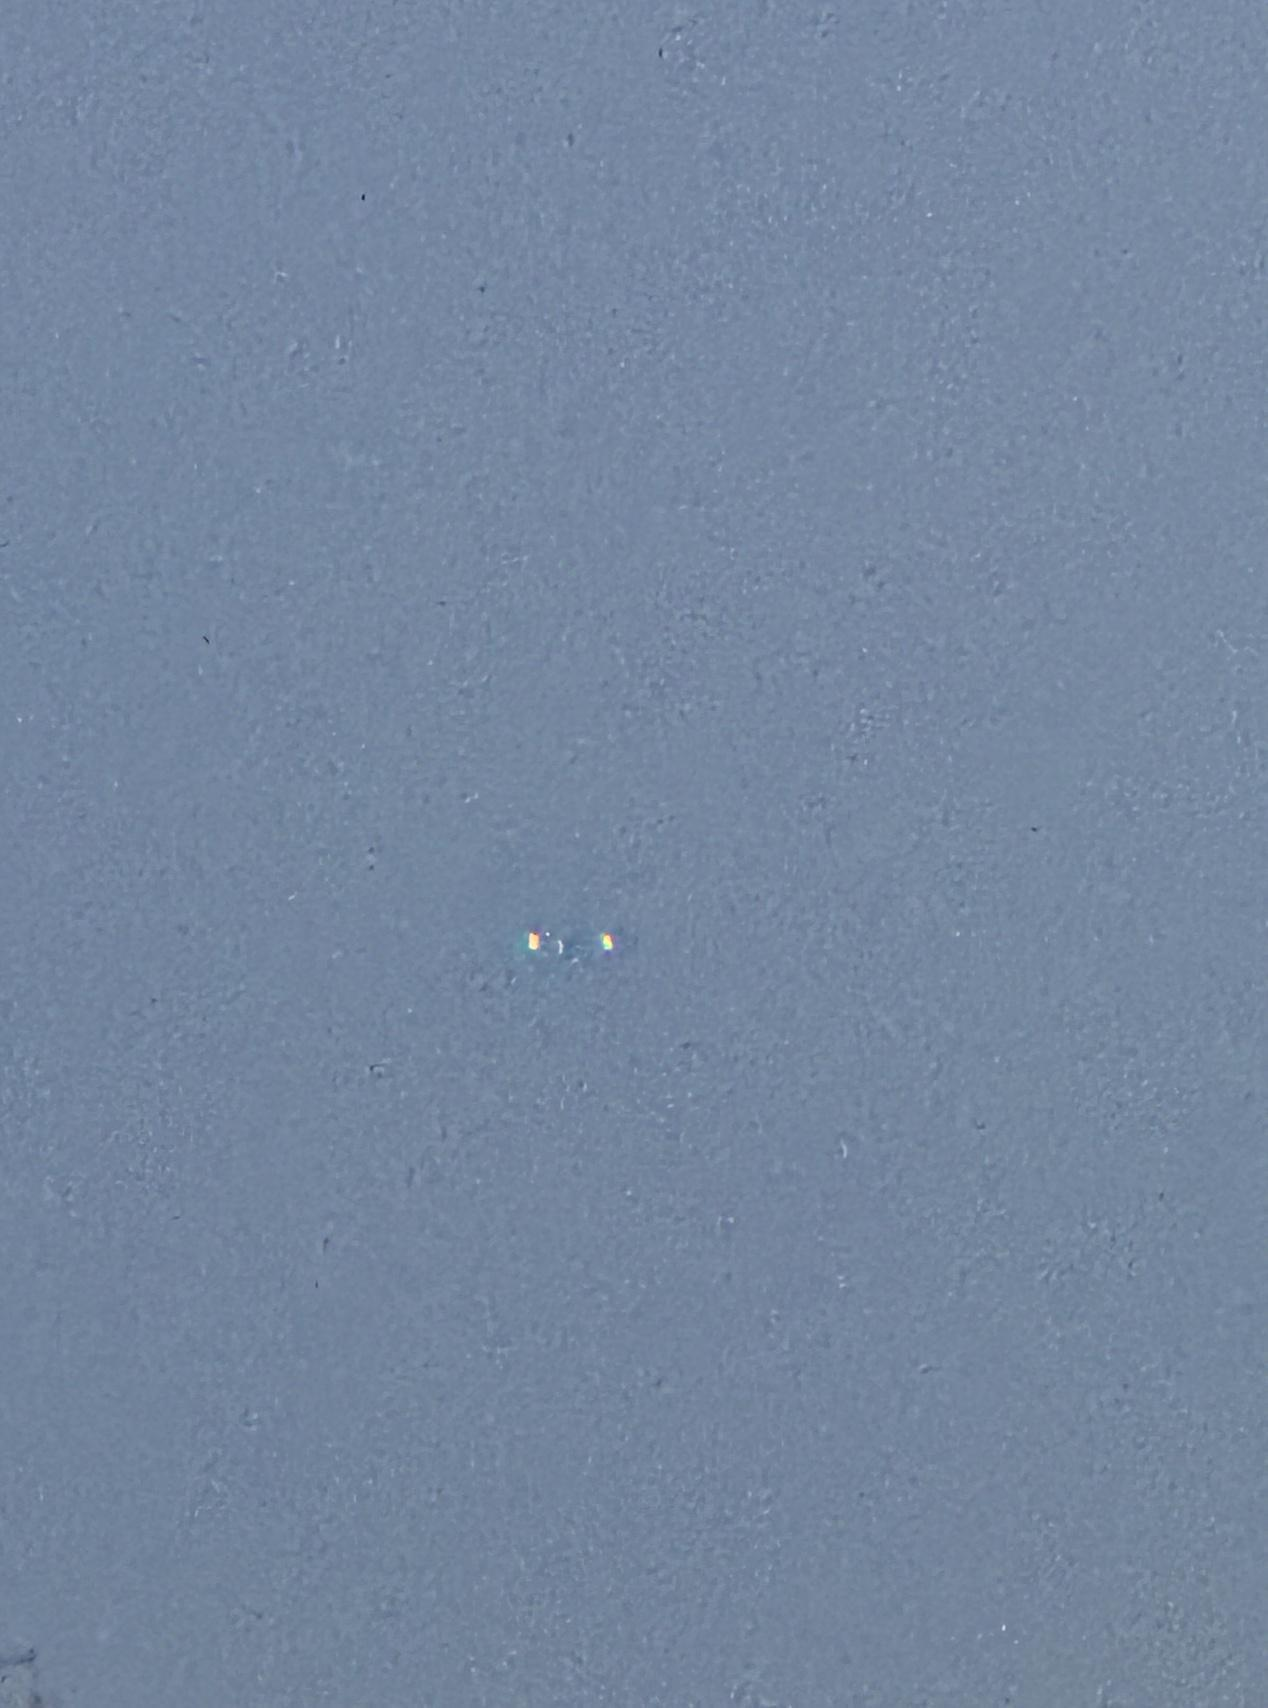Plane: (479, 907, 674, 996)
